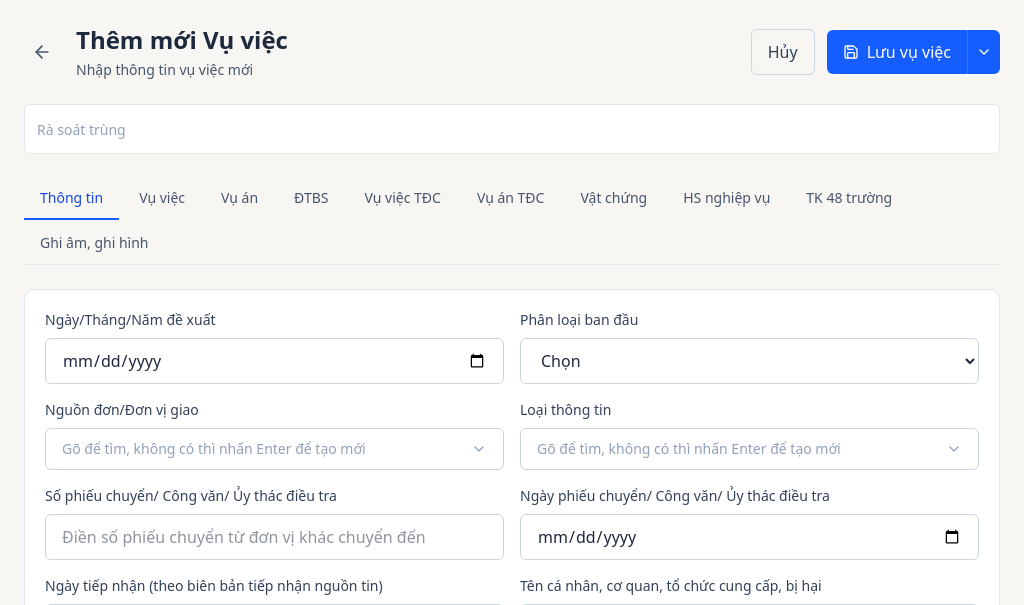
IncidentFormPage — lý do không khởi tố qua CatalogSelect (PR-1) › render checkbox danh mục testid cat-{code} + nhãn pháp lý "đại xá"
Click the button with test id "tab-nut-incident" at (162, 199), box [123, 178, 201, 220]
(page scrolled)
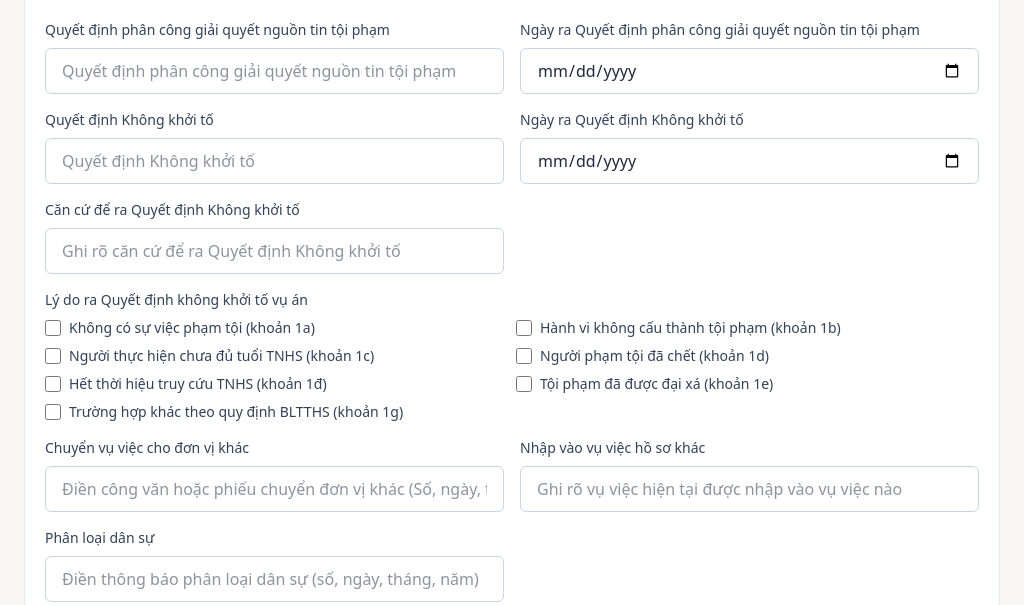
expect the checkbox with test id "cat-KHONG_CO_SU_VIEC" is shown: met, box [45, 320, 61, 336]
expect the checkbox with test id "cat-TOI_PHAM_DA_DUOC_XOA_AN_TICH" is shown: met, box [516, 376, 532, 392]
expect the text "Tội phạm đã được đại xá (khoản 1e)" is shown: met, box [516, 374, 773, 393]
